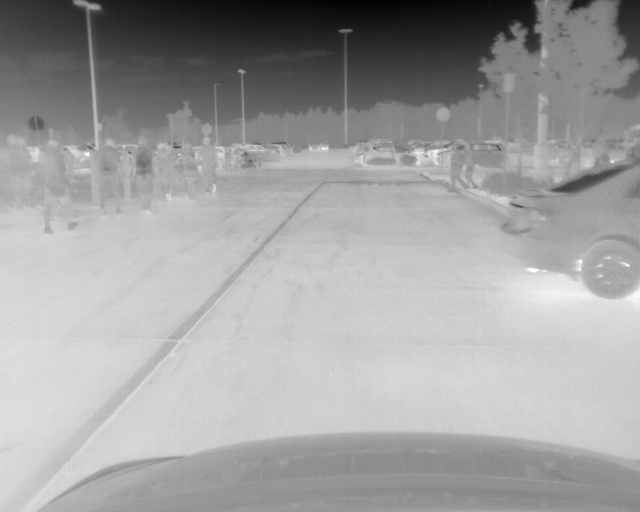car: (508, 161, 640, 301), (438, 144, 507, 167), (363, 143, 428, 167), (308, 141, 330, 150), (274, 143, 289, 156), (246, 144, 271, 151)
people: (41, 138, 80, 235), (96, 138, 125, 218), (130, 137, 157, 213), (1, 135, 26, 210), (17, 144, 35, 210), (198, 137, 218, 195), (156, 140, 174, 203), (181, 146, 197, 201), (451, 146, 466, 193), (464, 146, 477, 190), (591, 141, 609, 166), (224, 148, 234, 174), (236, 146, 245, 169)
